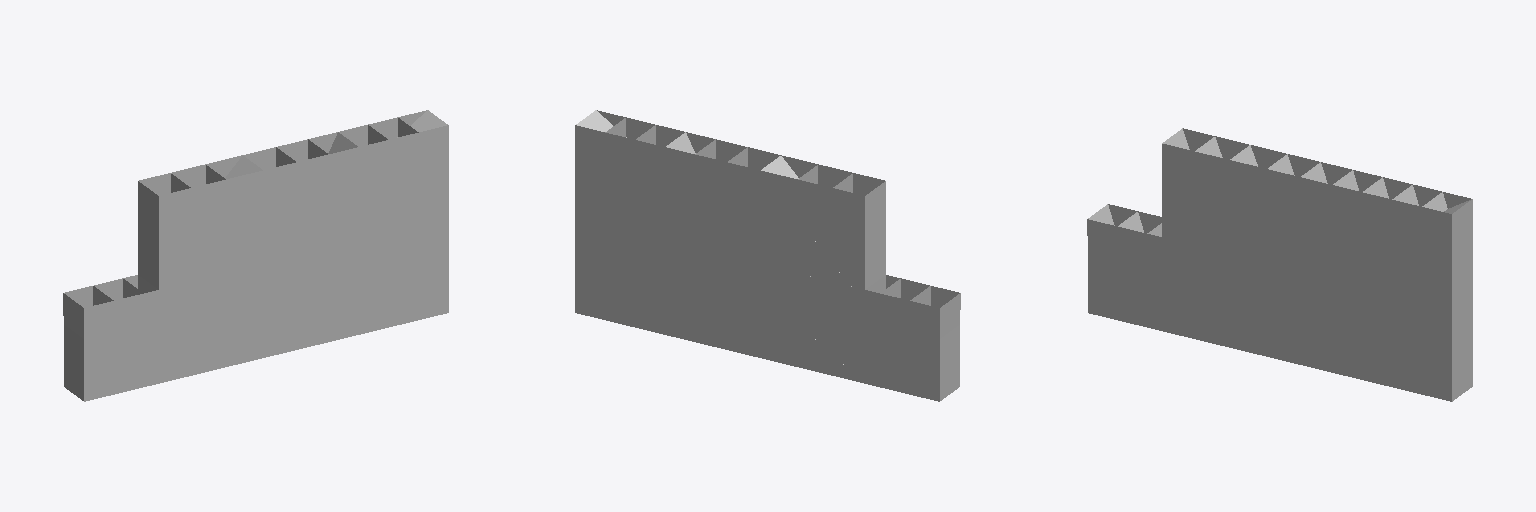
Rendered from 3d_Ungoro spring02.wlw.obj.
The picture shows the model from 3 angles: view 1: azimuth 30°, elevation 25°; view 2: azimuth 150°, elevation 25°; view 3: azimuth 330°, elevation 25°; orthographic projection.
Bounding box in the file's own units: 102 × 50 × 10.02.